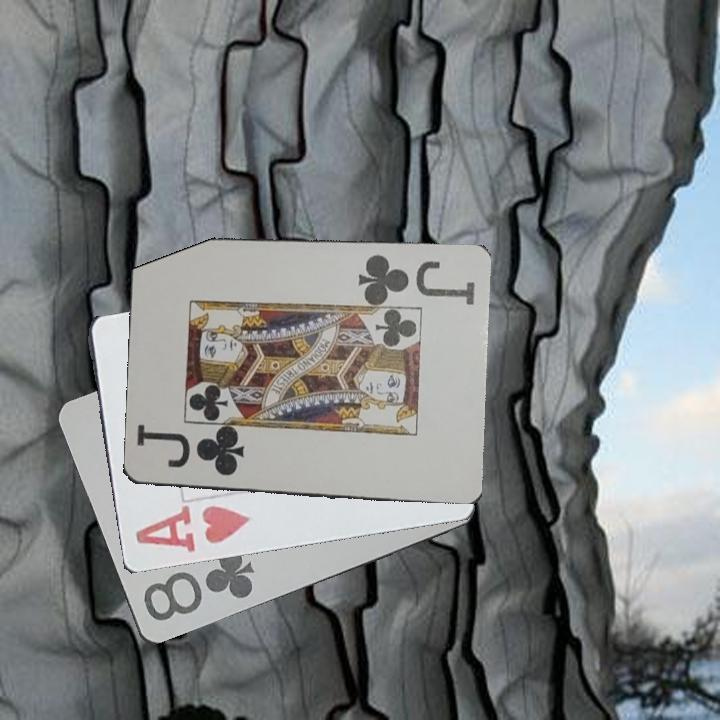8c: (139, 547, 257, 627)
Ah: (131, 502, 253, 556)
Jc: (354, 251, 477, 308), (133, 428, 247, 480)
